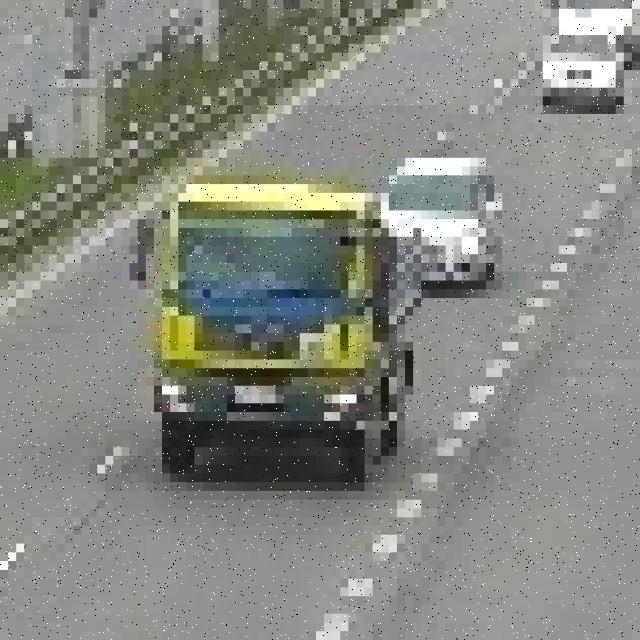truck: (113, 166, 405, 474)
